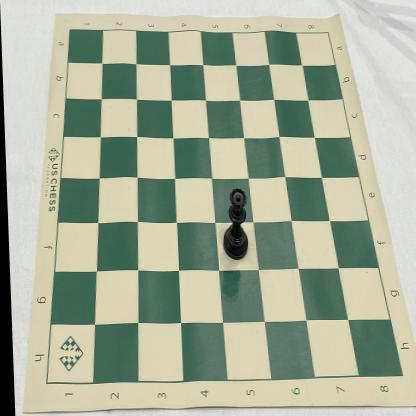black-queen: (219, 188, 247, 260)
